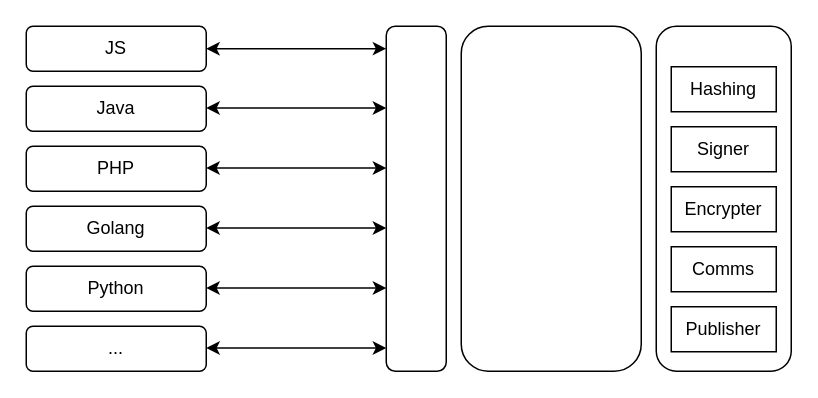
Some shapes in this 818 by 398 pixel diagram are drawn without their labels. Each missing label, with the box of its shape:
Bridge: (385, 25, 446, 371)
Core: (460, 25, 641, 371)
Libs: (655, 25, 791, 371)
